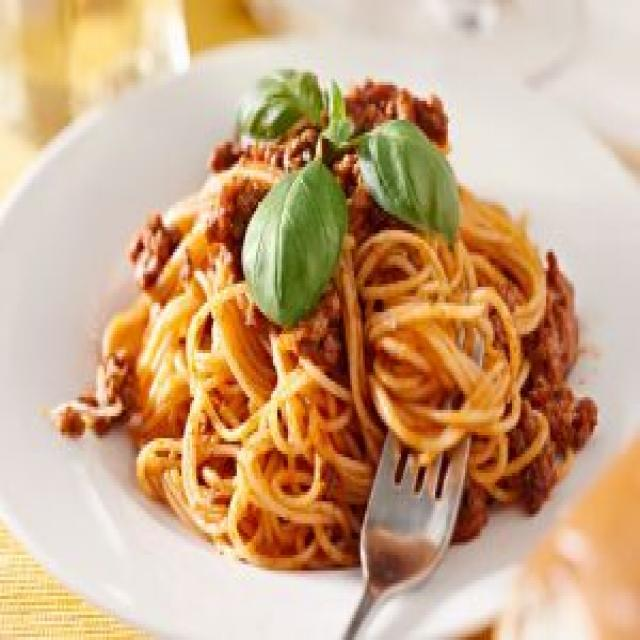Pasta al ragu: (124, 35, 598, 530)
